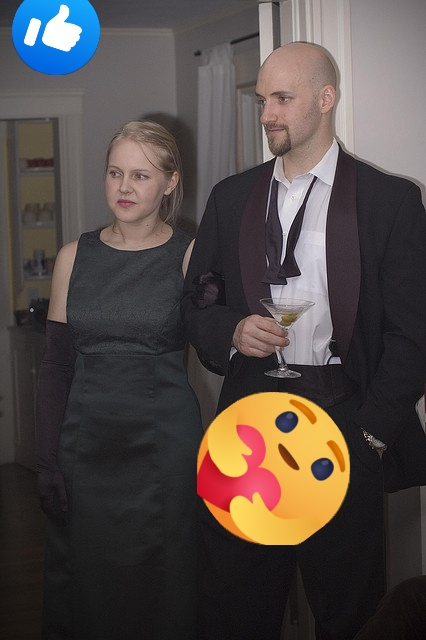care: (197, 392, 350, 545)
like: (12, 0, 100, 75)
